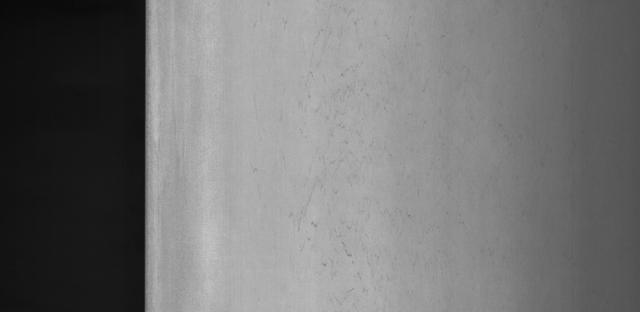silk_spot: (277, 12, 421, 267)
